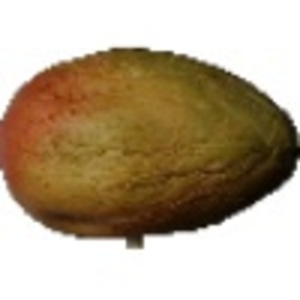mamão: (3, 41, 295, 236)
